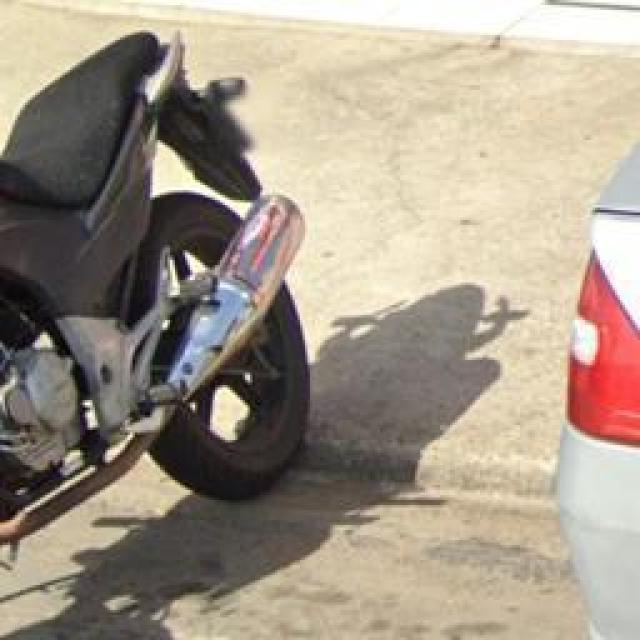motorcycle: (2, 30, 316, 568)
